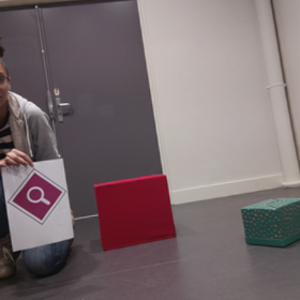medium: (94, 173, 179, 253)
small: (240, 195, 300, 247)
